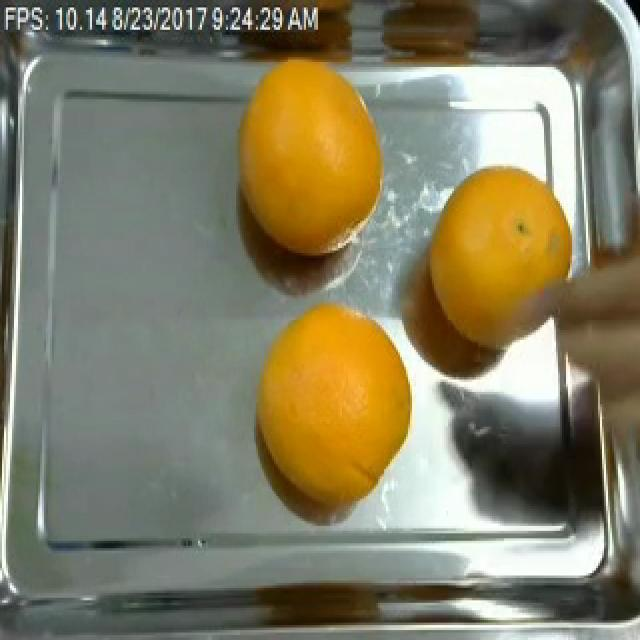Fruit: (384, 226, 562, 402), (414, 149, 578, 320)
